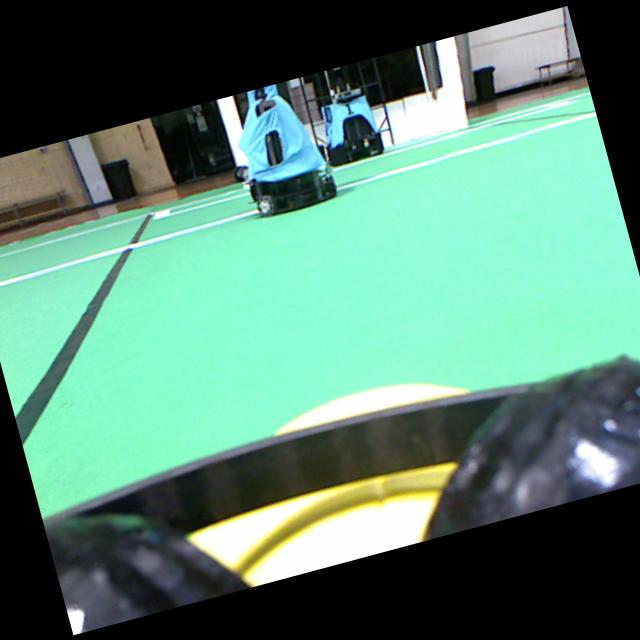goal: (186, 383, 475, 587), (435, 36, 467, 128), (217, 95, 248, 164)
